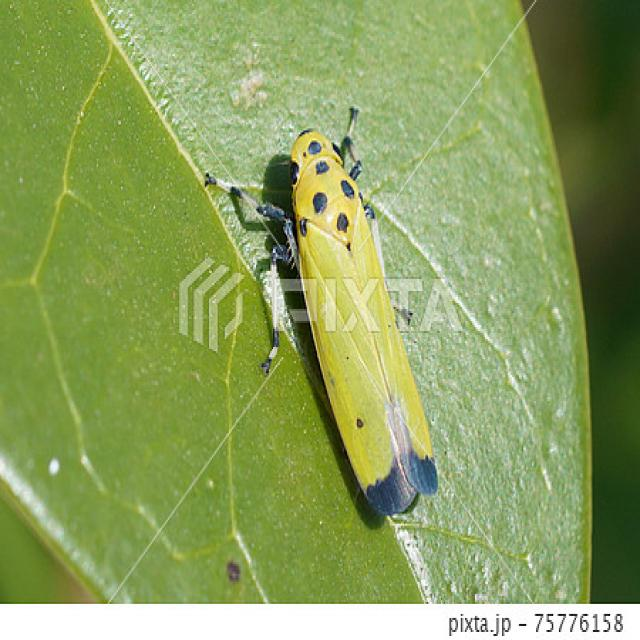Yechan: (254, 101, 457, 516)
